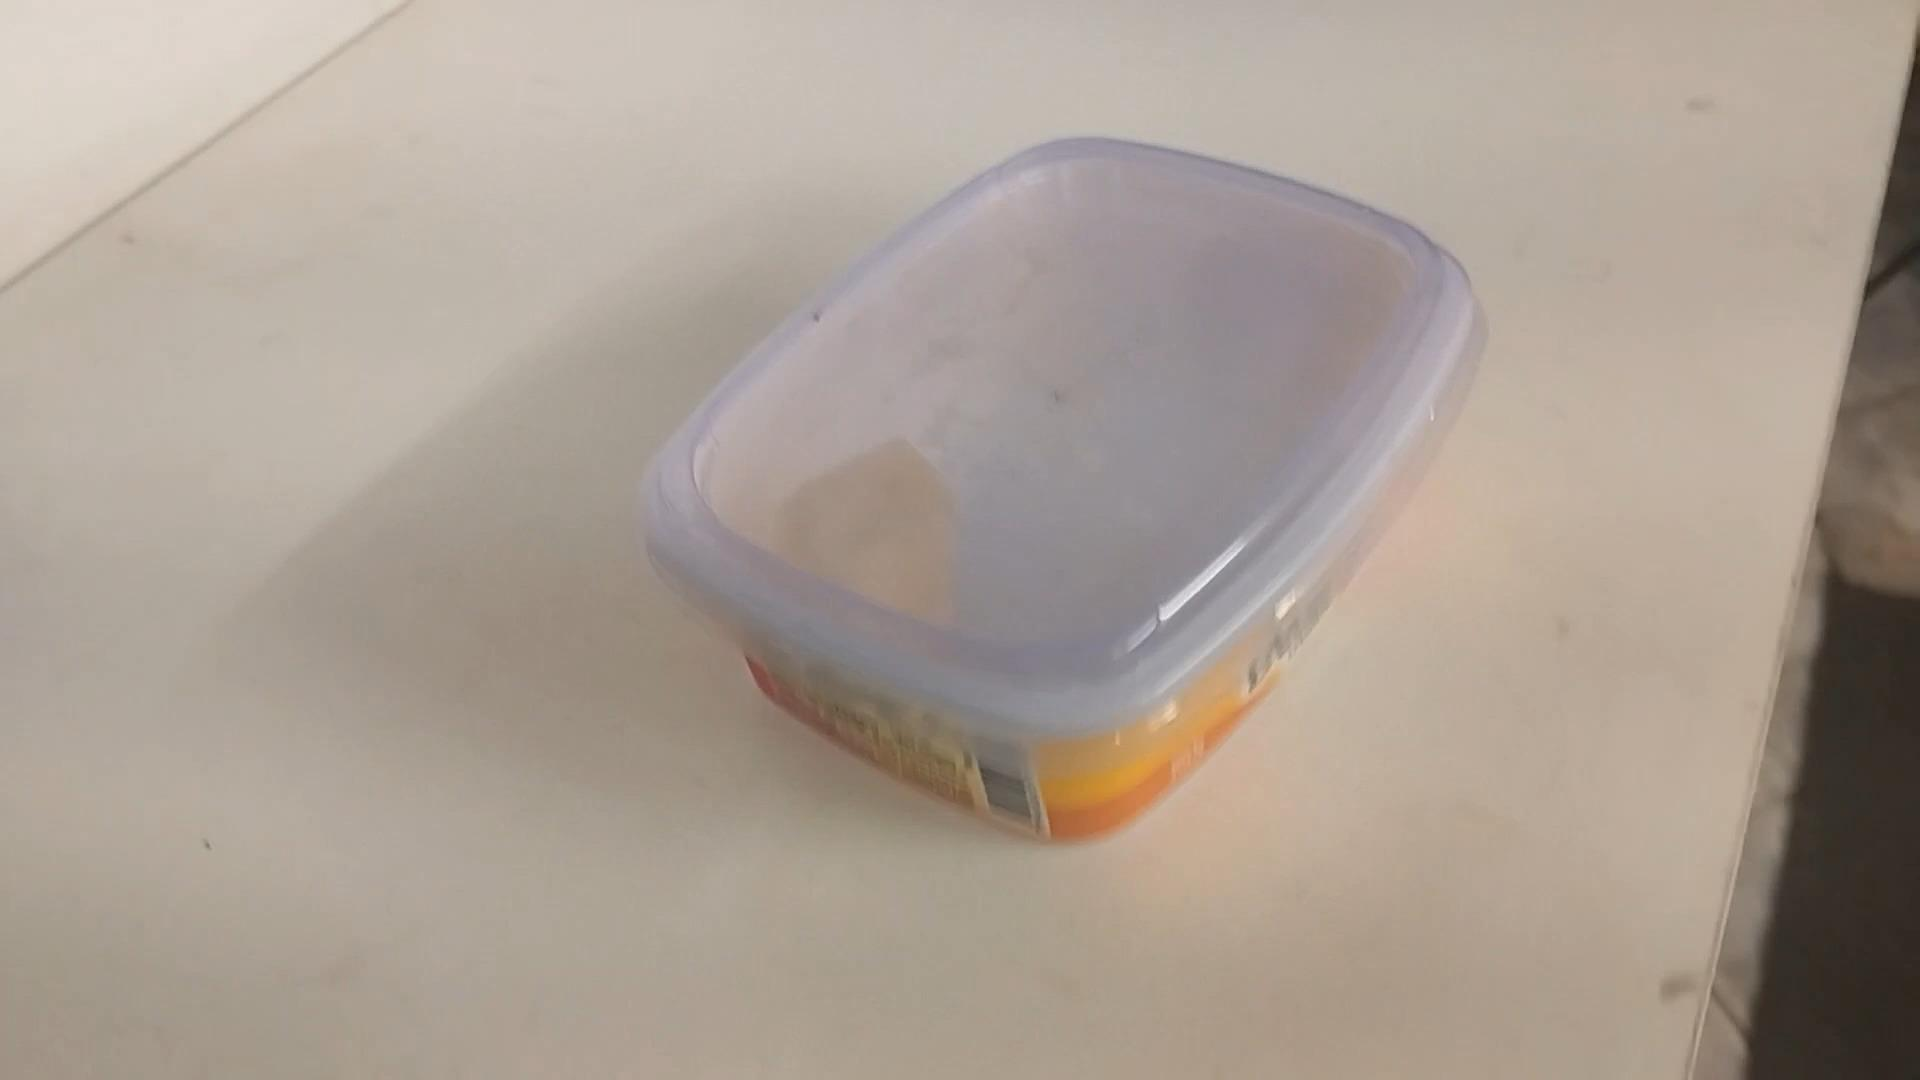butter: (640, 138, 1477, 841)
